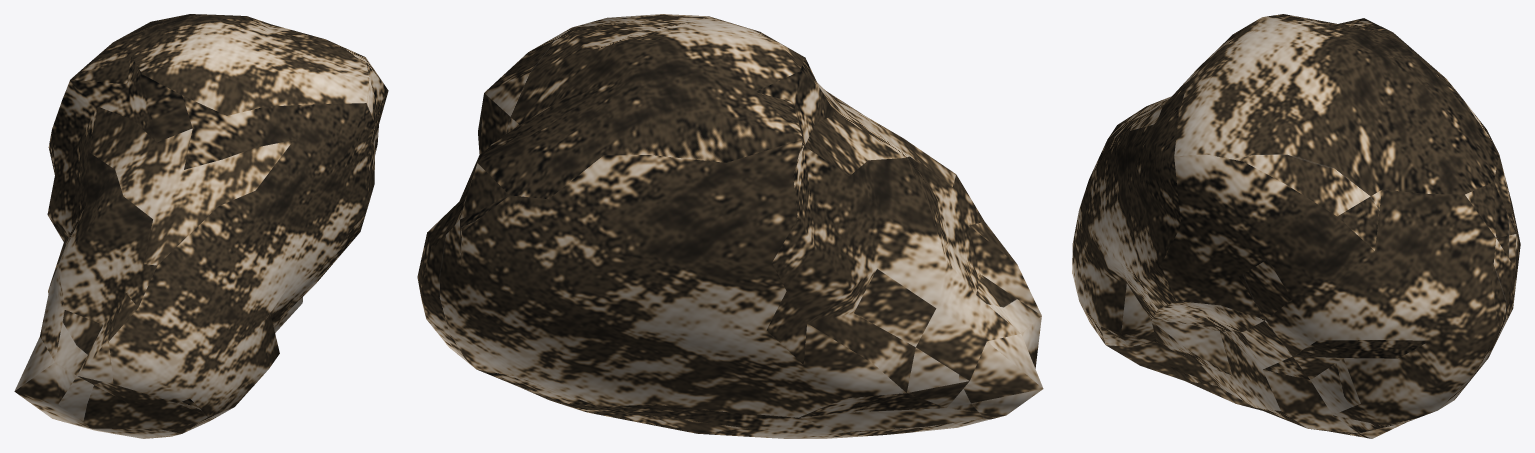
File: asteroidNormal.FBX
3 views of the same model, side by side, from view 1: azimuth 30°, elevation 25°; view 2: azimuth 150°, elevation 25°; view 3: azimuth 270°, elevation 25° (orthographic). The views are drawn at different scales.
Parts seen in each view (by area): view 1: GeoSphere01; view 2: GeoSphere01; view 3: GeoSphere01.
Boxes of the visible parts, bbox=[...] form: GeoSphere01: bbox=[14, 14, 388, 438]; GeoSphere01: bbox=[417, 14, 1043, 438]; GeoSphere01: bbox=[1072, 14, 1520, 438].
Bounding box in the file's own units: 130 × 101 × 105.
1 material, 1 textured.
